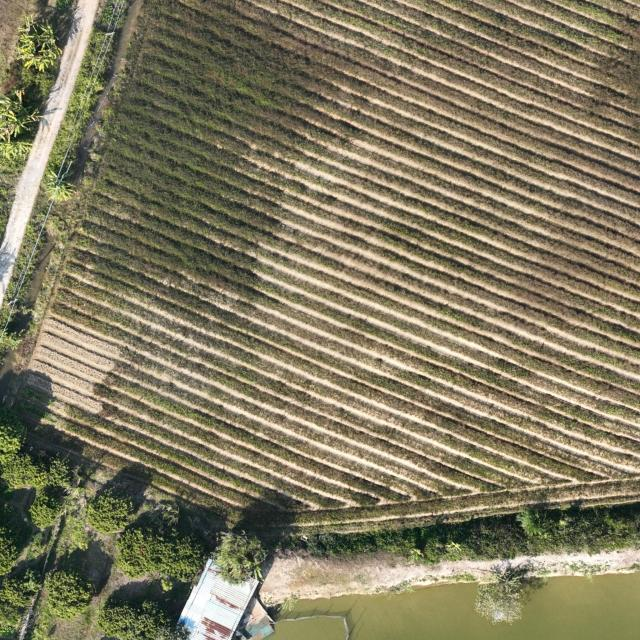tree: (116, 502, 207, 584), (96, 597, 191, 640), (210, 528, 270, 587), (1, 453, 72, 493), (473, 570, 523, 626), (44, 566, 94, 621), (16, 15, 65, 71), (84, 486, 136, 535), (0, 402, 27, 466), (515, 505, 554, 539), (28, 493, 61, 530), (44, 170, 77, 203), (0, 526, 21, 576)
